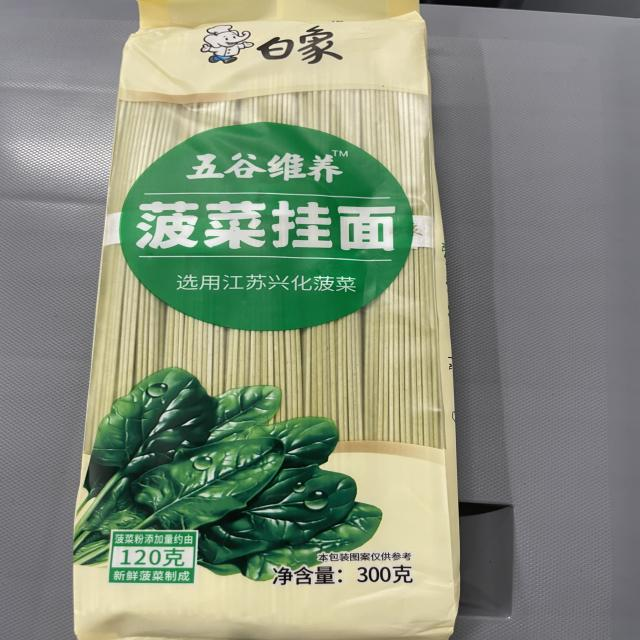object_name: (107, 3, 445, 640)
